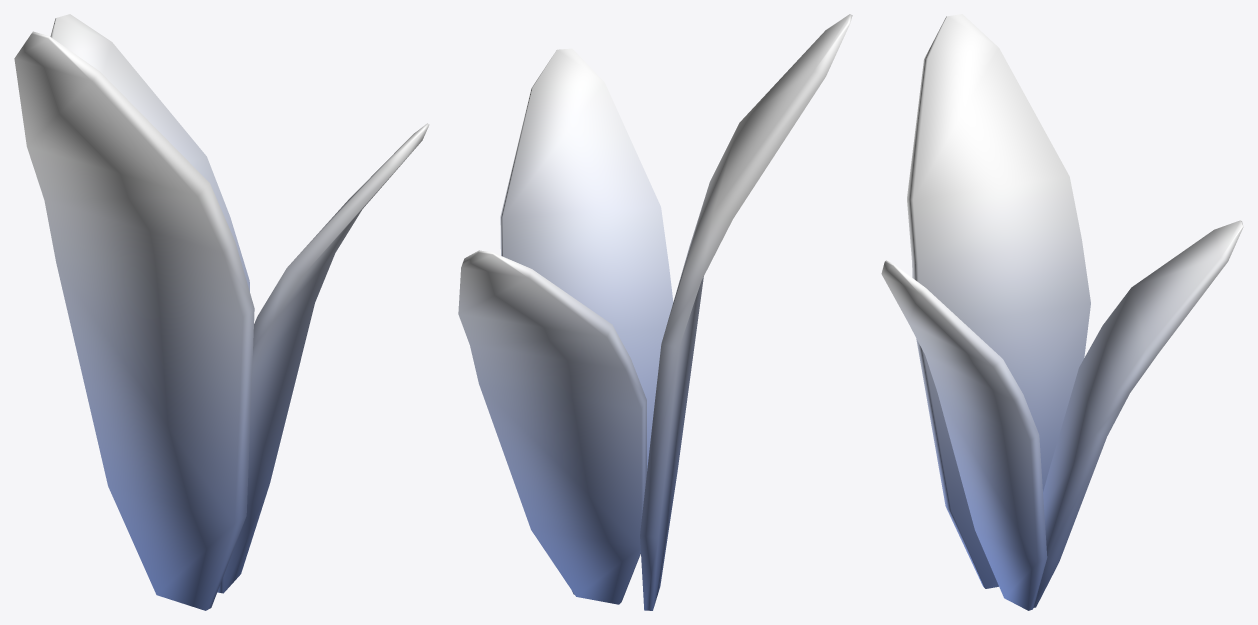
The model's file is Grass_L.fbx.
3 views of the same model, side by side, from view 1: azimuth 30°, elevation 25°; view 2: azimuth 150°, elevation 25°; view 3: azimuth 270°, elevation 25° (orthographic). The views are drawn at different scales.
Visible parts, largest first — view 1: Grass_L; view 2: Grass_L; view 3: Grass_L.
Part boxes in pixels (box(x1,y1,x2,y2)): Grass_L: box(14, 14, 429, 610); Grass_L: box(458, 14, 852, 610); Grass_L: box(881, 14, 1243, 610).
Size of the model in its own units: 45.14 by 75.06 by 49.16.
